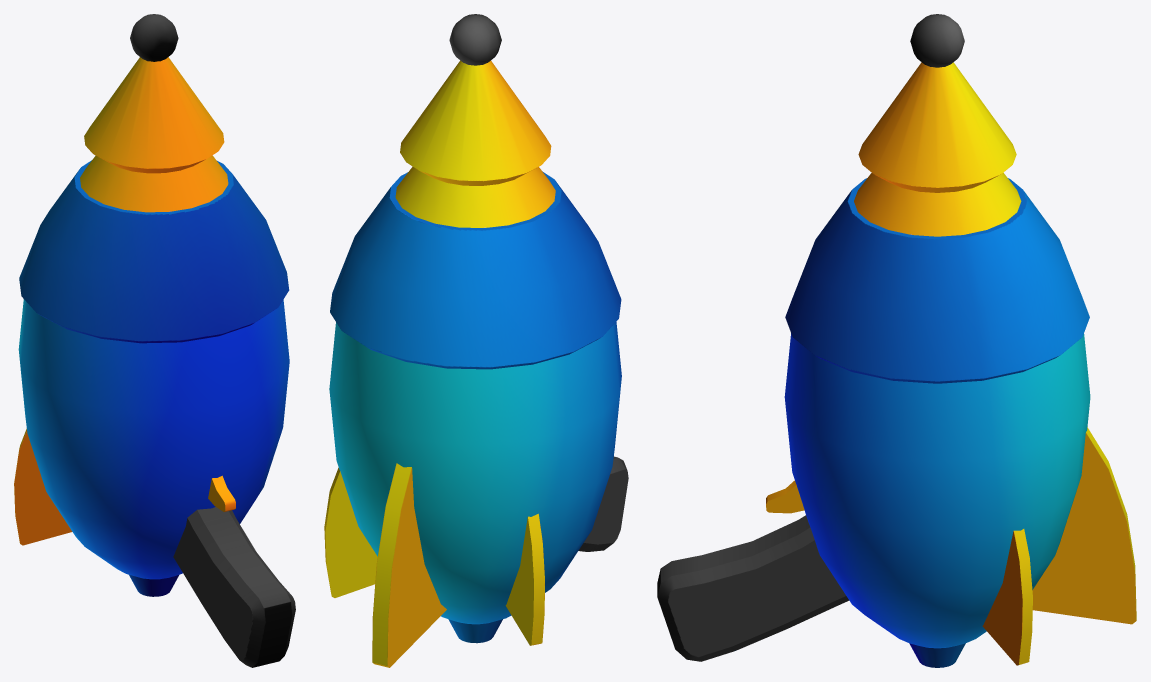
File: LaserGun.FBX
3 views of the same model, side by side, from view 1: azimuth 30°, elevation 25°; view 2: azimuth 150°, elevation 25°; view 3: azimuth 270°, elevation 25° (orthographic). The views are drawn at different scales.
Visible parts, largest first — view 1: LaserGun; view 2: LaserGun; view 3: LaserGun.
Boxes of the visible parts, box(x1,y1,x2,y2) form: LaserGun: box(14, 14, 295, 667); LaserGun: box(324, 14, 628, 667); LaserGun: box(657, 14, 1136, 667).
Size of the model in its own units: 16.43 by 38.16 by 25.74.
Materials: 1 (1 with a texture image).
